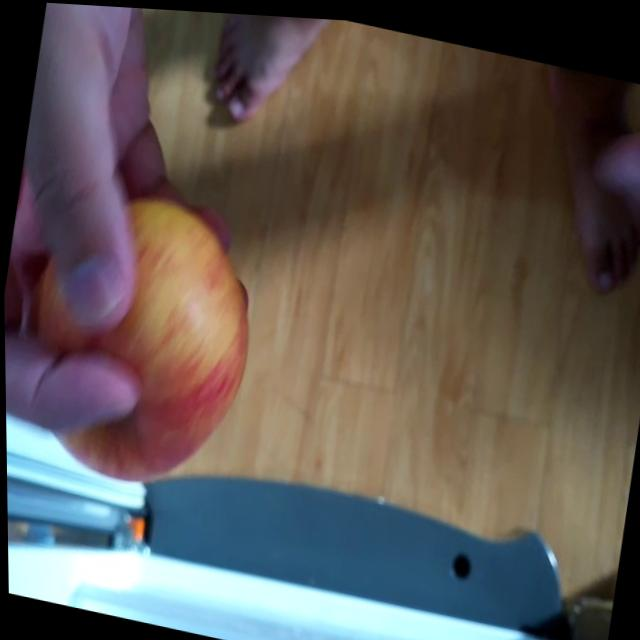apple: (14, 173, 267, 507)
